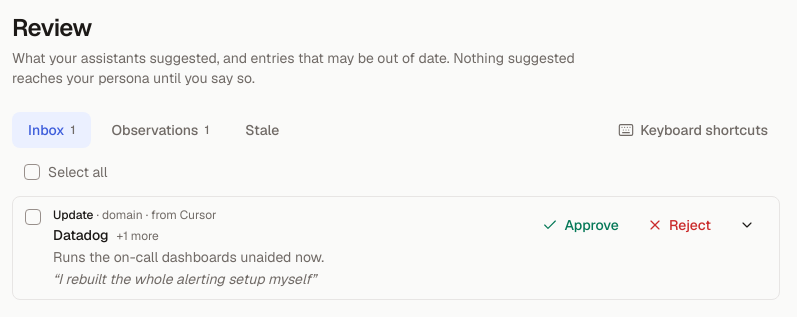
ProposalsPanel › rejects without writing anything, once the Undo window has passed
This screenshot has width=797, height=317.
What coordinates should you click on to do the following:
click the button "reject "
I would click on:
 (679, 225)
Its box is left=635, top=207, right=723, bottom=243.
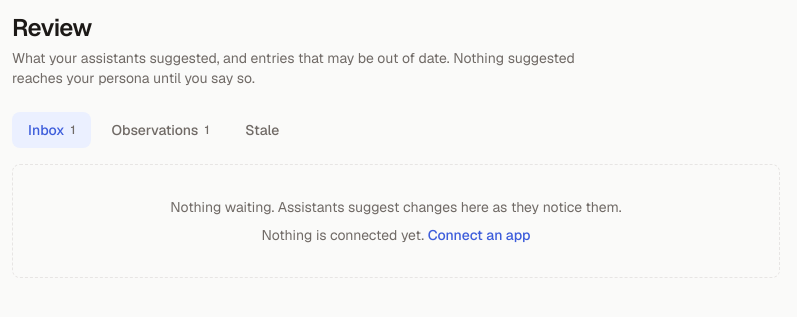
Expected: the button "reject " is gone
